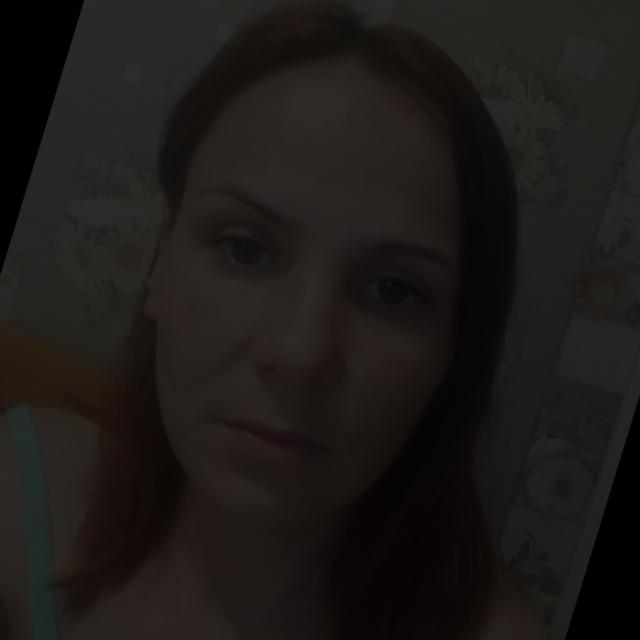Natural: (110, 62, 484, 493)
